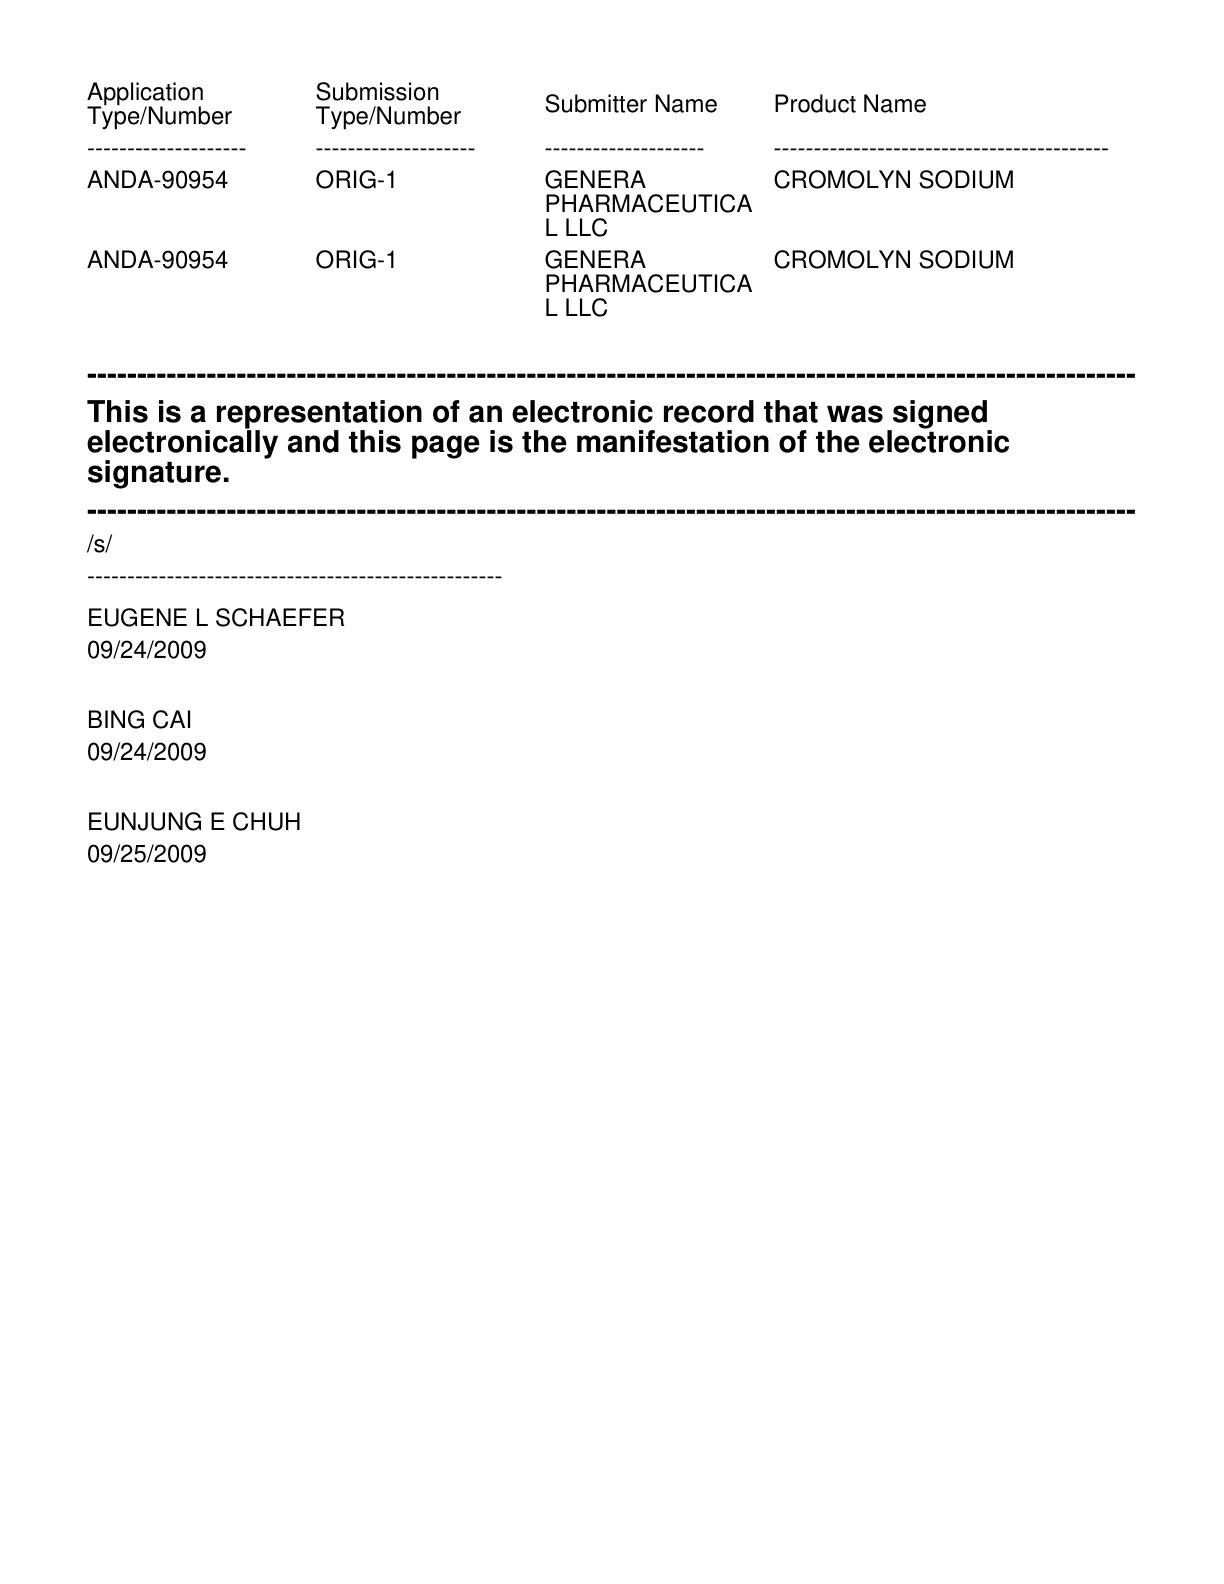nolines: (85, 77, 1108, 323)
